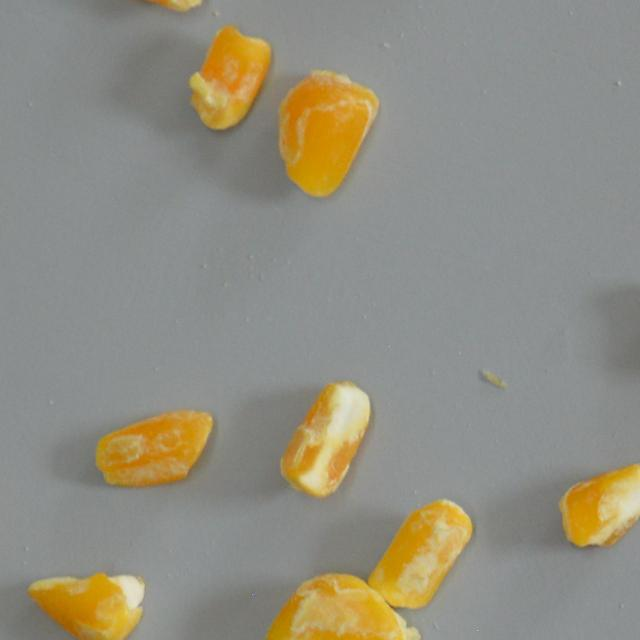pelicula: (256, 83, 386, 187), (115, 384, 196, 518), (358, 504, 477, 594), (293, 546, 396, 640), (292, 376, 366, 498), (41, 544, 127, 640), (176, 38, 279, 116), (551, 458, 640, 548), (126, 0, 200, 22)
